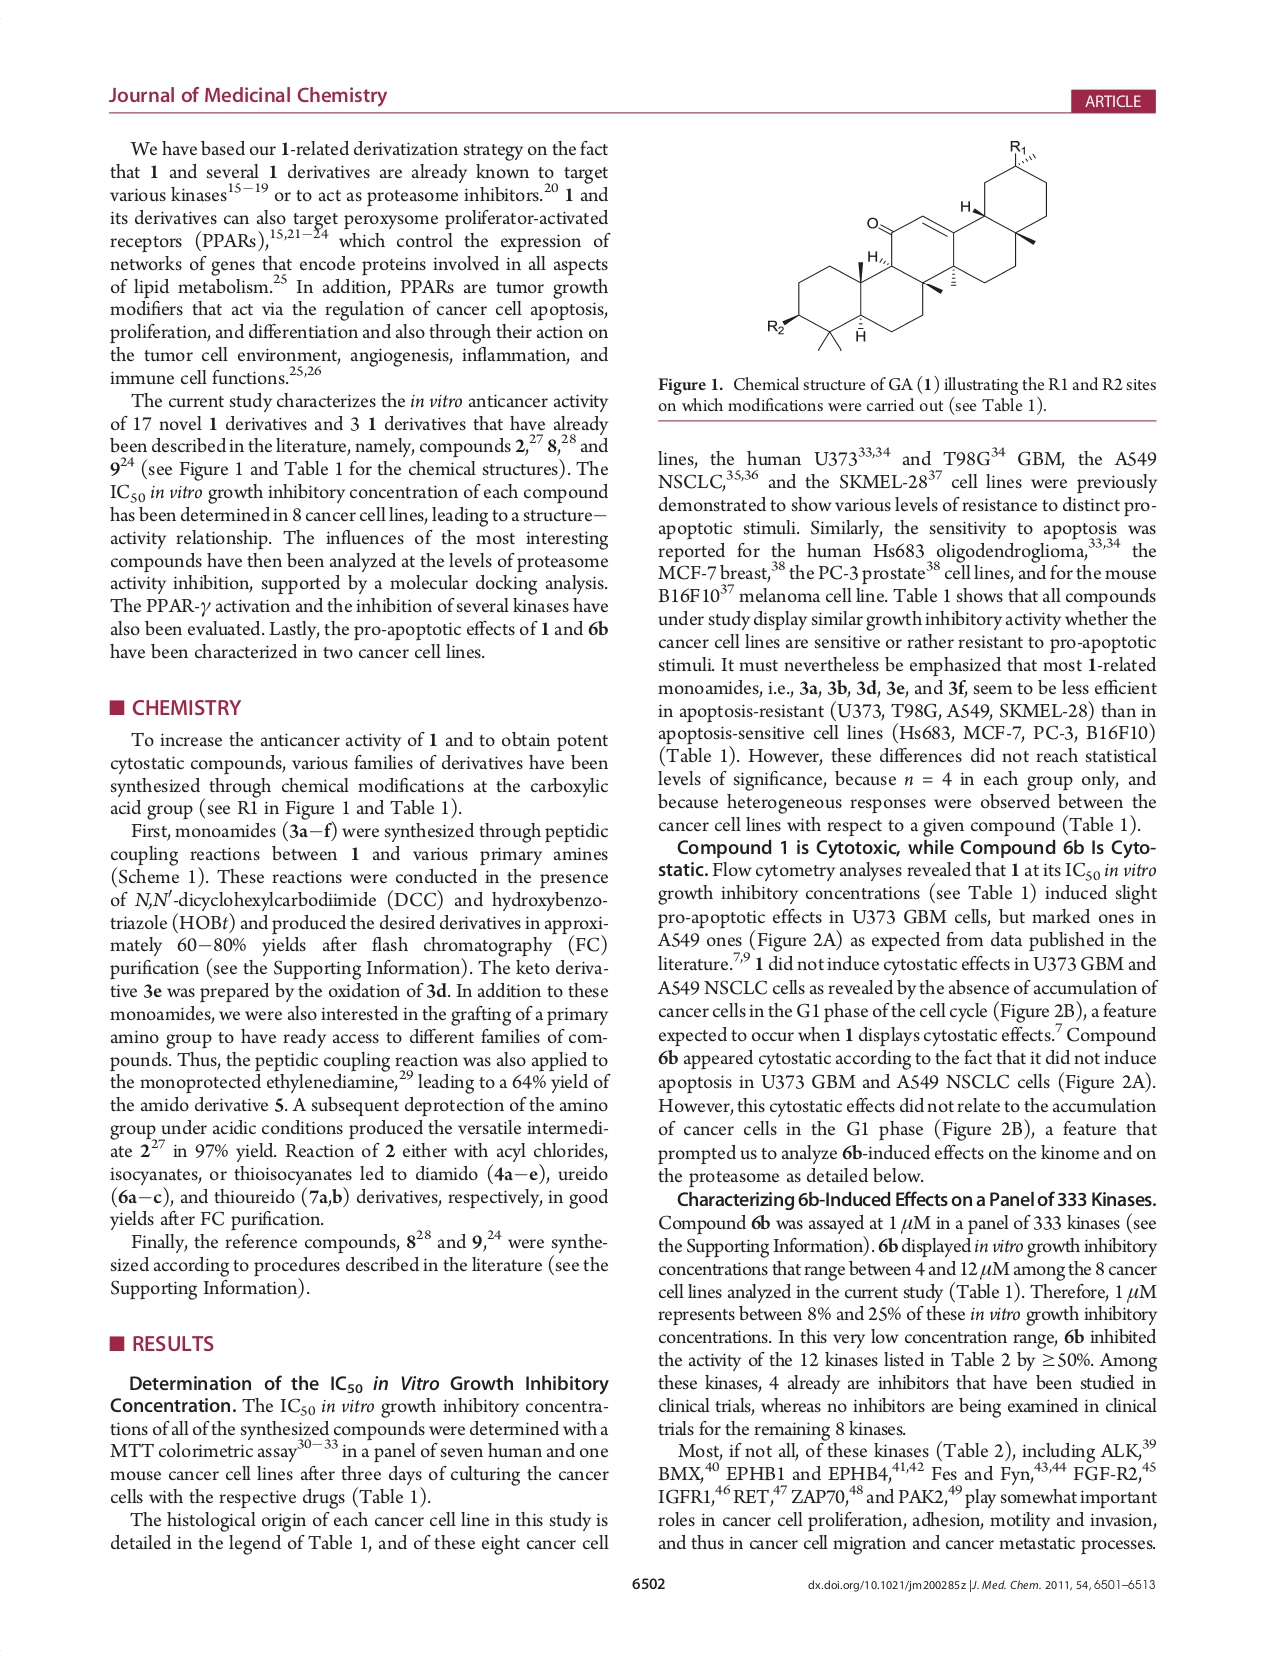exist_molecular: (763, 137, 1052, 352)
